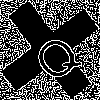Q: (25, 25, 85, 87)
